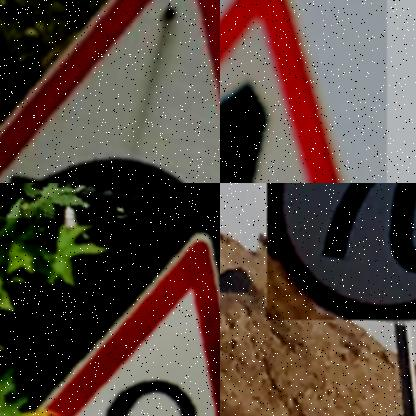Cross Roads: (220, 0, 342, 183)
Speed Breaker Ahead: (0, 0, 220, 183)
Speed Limit -70 kmph-: (268, 183, 416, 320)
U-Turn: (24, 218, 220, 416)
